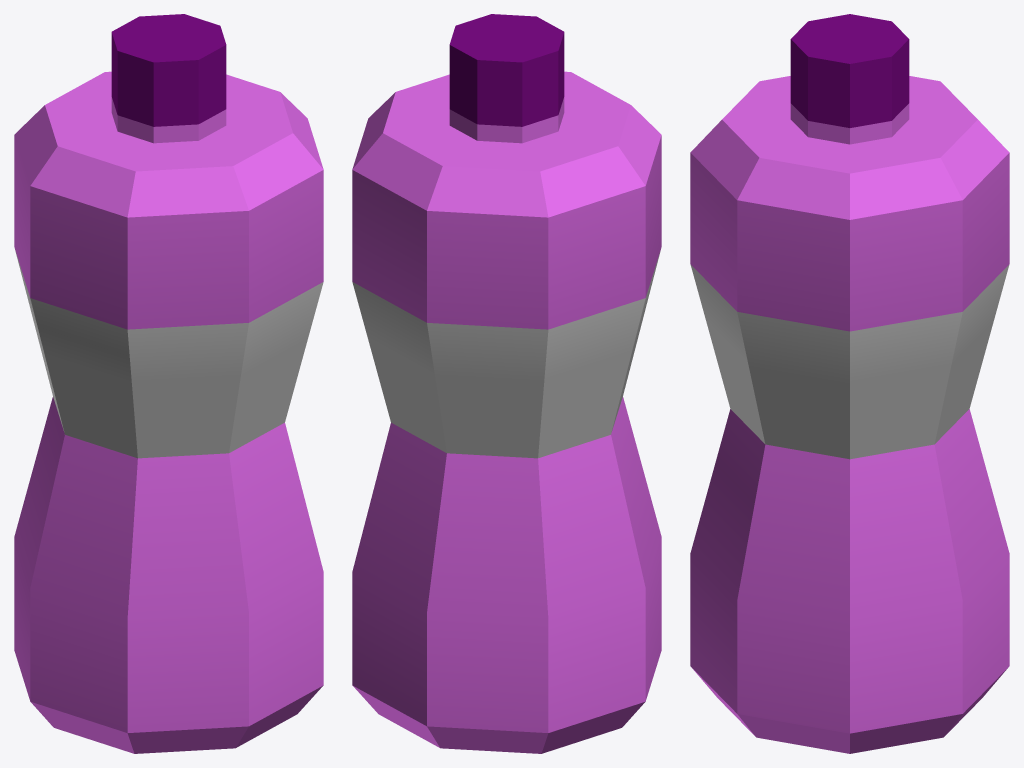
File: EnergyDrink.fbx
3 renders of one model, left to right at view 1: azimuth 30°, elevation 25°; view 2: azimuth 150°, elevation 25°; view 3: azimuth 270°, elevation 25°, orthographic.
Parts seen in each view (by area): view 1: Cylinder; view 2: Cylinder; view 3: Cylinder.
Part boxes in pixels (x1,y1,x2,y2): Cylinder: [14, 14, 323, 753]; Cylinder: [352, 14, 661, 753]; Cylinder: [690, 14, 1009, 753].
Bounding box in the file's own units: 100 × 228 × 100.
